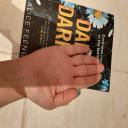OpenPalm: (23, 44, 106, 110)
